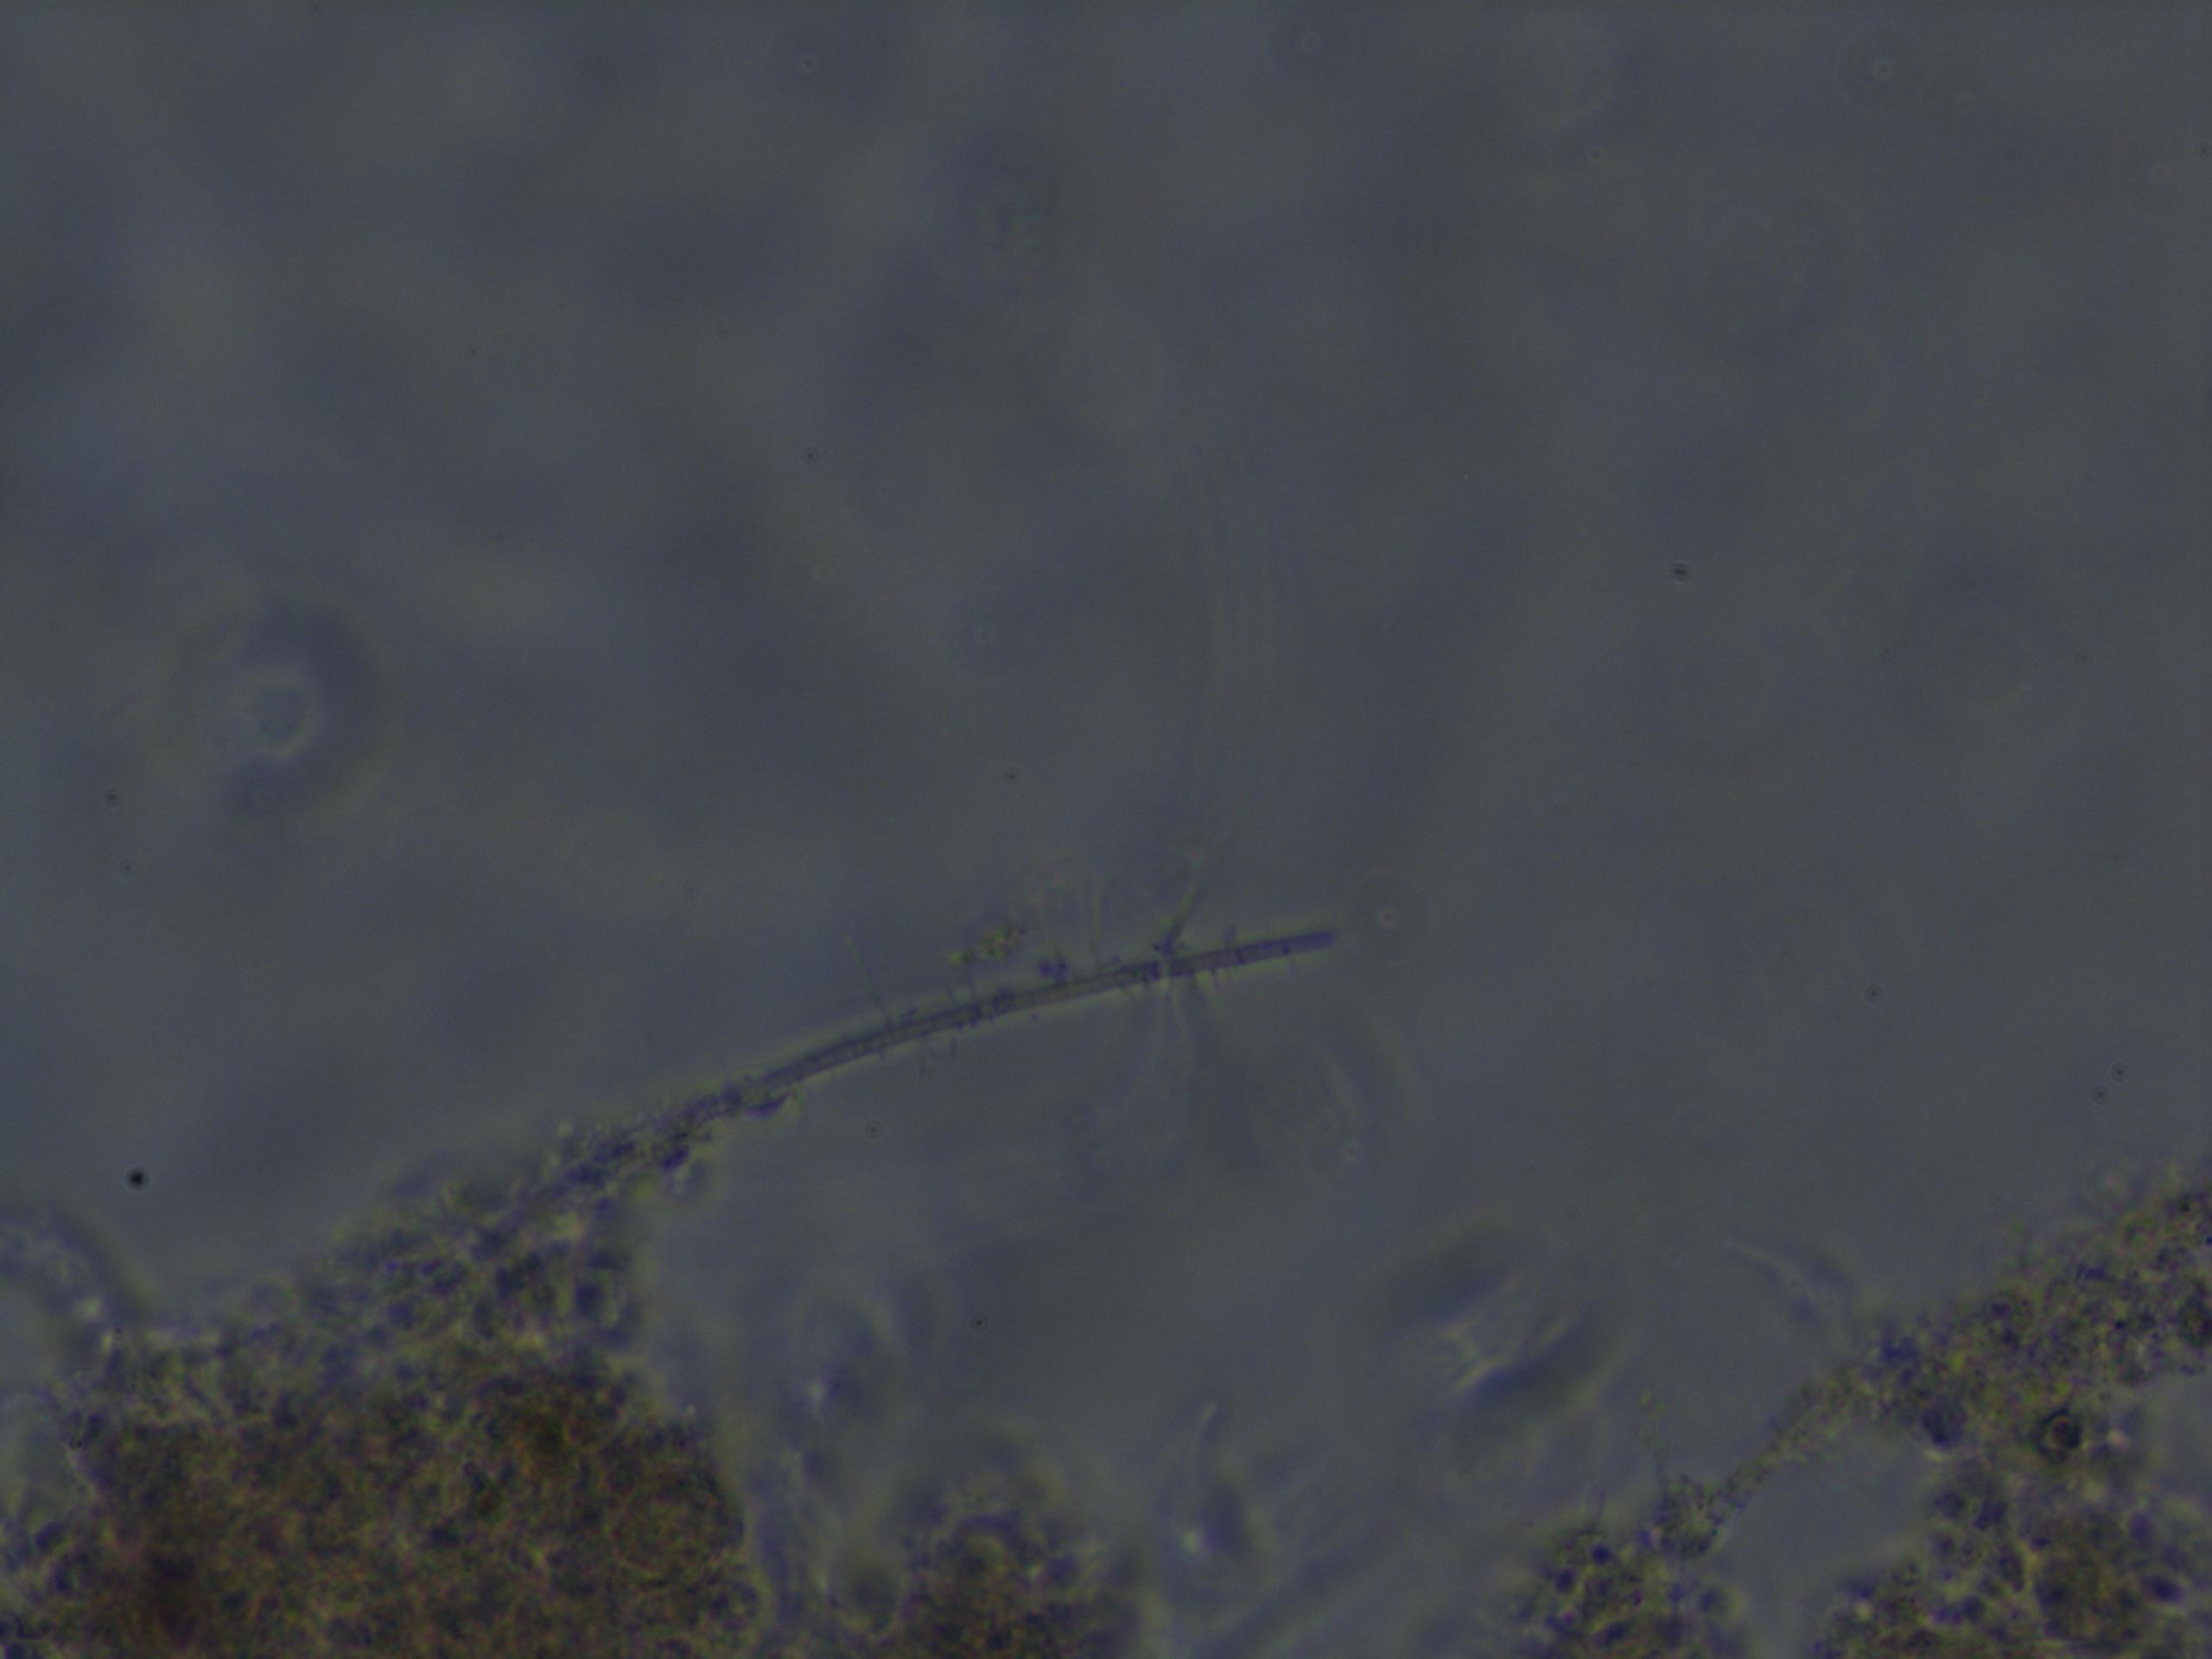filament: (9, 906, 1345, 1347)
